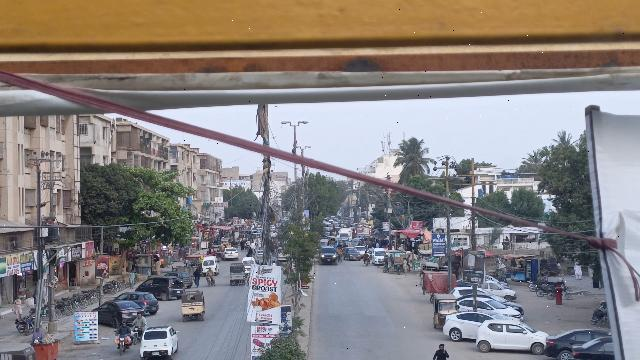Bike: (114, 334, 131, 359), (131, 325, 143, 345), (204, 273, 215, 288)
Car: (474, 317, 550, 353), (439, 310, 515, 342), (544, 326, 606, 360), (90, 299, 144, 326), (139, 325, 180, 360), (135, 276, 185, 299), (117, 290, 161, 314)
Person: (431, 342, 450, 360), (114, 320, 131, 336), (129, 312, 148, 326), (193, 269, 201, 286), (205, 266, 215, 278)
Rickshaw: (432, 291, 459, 329), (179, 289, 208, 322), (227, 263, 246, 287)
